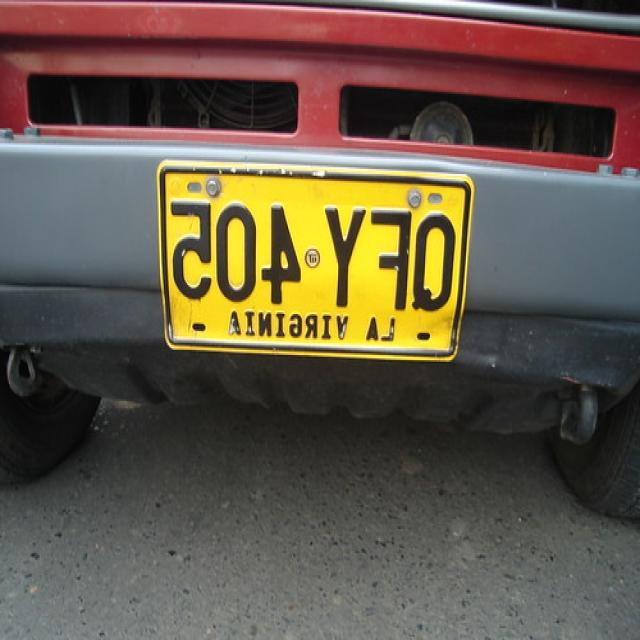placas: (169, 190, 462, 315)
